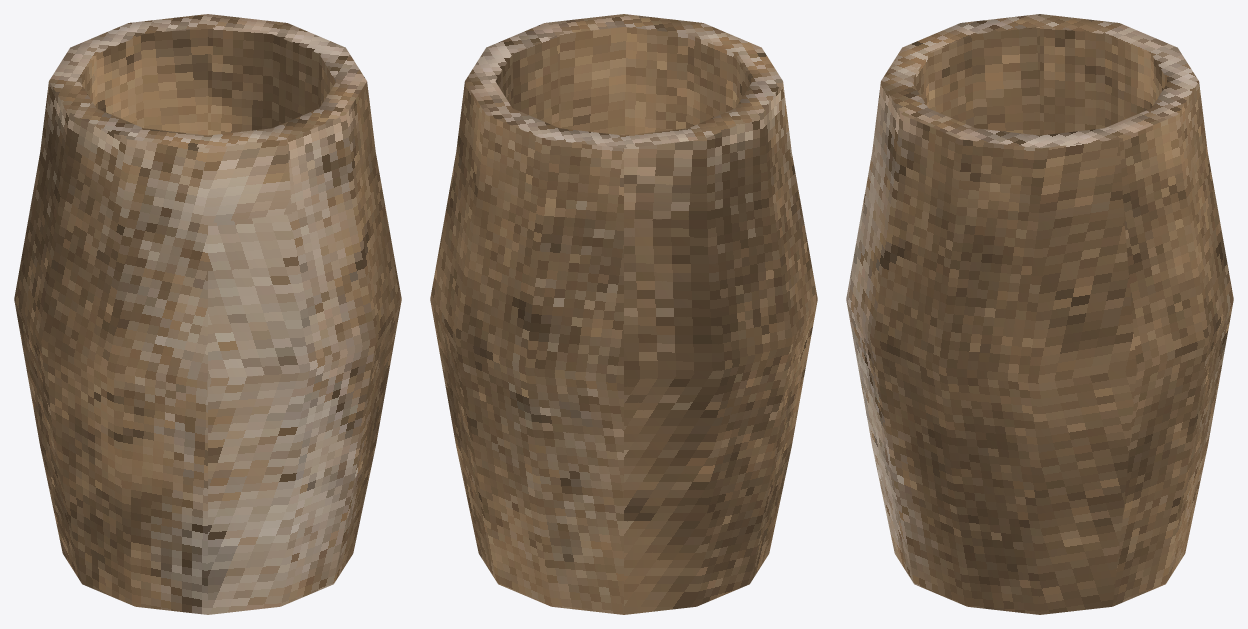
File: Vase_2.gltf
3 views of the same model, side by side, from view 1: azimuth 30°, elevation 25°; view 2: azimuth 150°, elevation 25°; view 3: azimuth 270°, elevation 25° (orthographic).
Visible parts, largest first — view 1: Vase_2; view 2: Vase_2; view 3: Vase_2.
Part boxes in pixels (x1=…): Vase_2: x1=14, y1=14, x2=401, y2=614; Vase_2: x1=430, y1=14, x2=817, y2=614; Vase_2: x1=846, y1=14, x2=1233, y2=614.
Bounding box in the file's own units: 1.53 × 2.06 × 1.53.
1 material, 1 textured.
